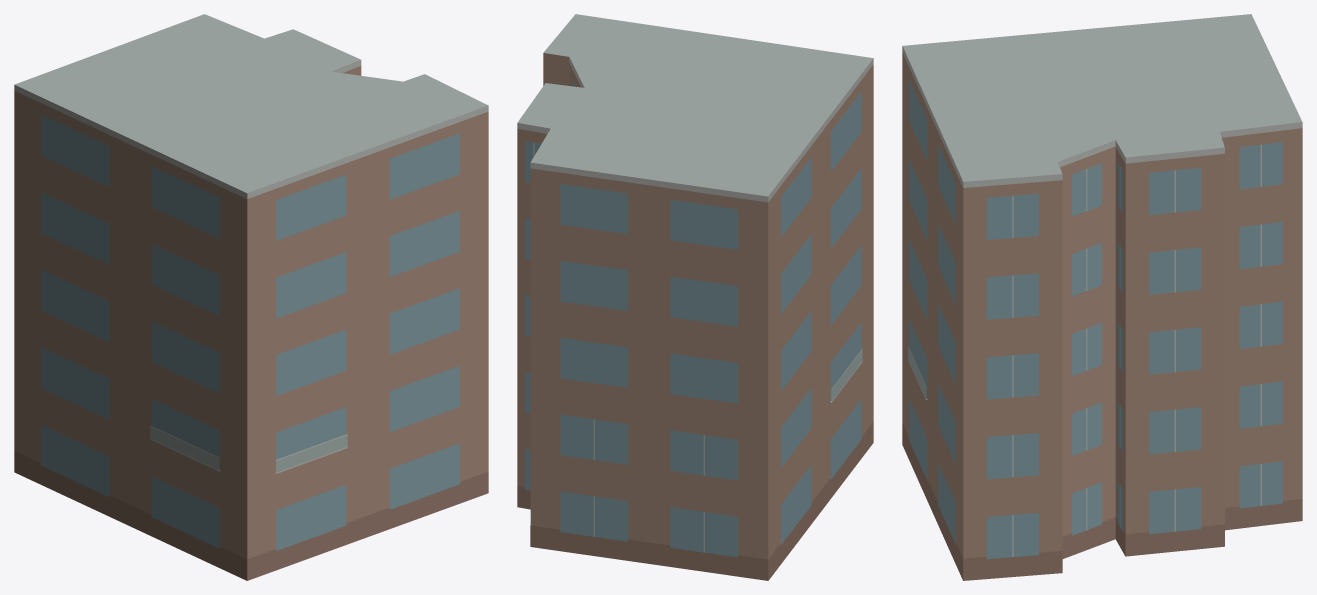
File: survey-upis-32598710.glb
The picture shows the model from 3 angles, left to right: view 1: azimuth 30°, elevation 25°; view 2: azimuth 150°, elevation 25°; view 3: azimuth 270°, elevation 25°; orthographic projection. The views are drawn at different scales.
Parts seen in each view (by area): view 1: survey-upis-32598710.tmp; view 2: survey-upis-32598710.tmp; view 3: survey-upis-32598710.tmp.
Boxes of the visible parts, bbox=[...] form: survey-upis-32598710.tmp: bbox=[14, 14, 488, 580]; survey-upis-32598710.tmp: bbox=[517, 14, 873, 580]; survey-upis-32598710.tmp: bbox=[902, 14, 1302, 580].
Bounding box in the file's own units: 14.36 × 15.9 × 14.46.
